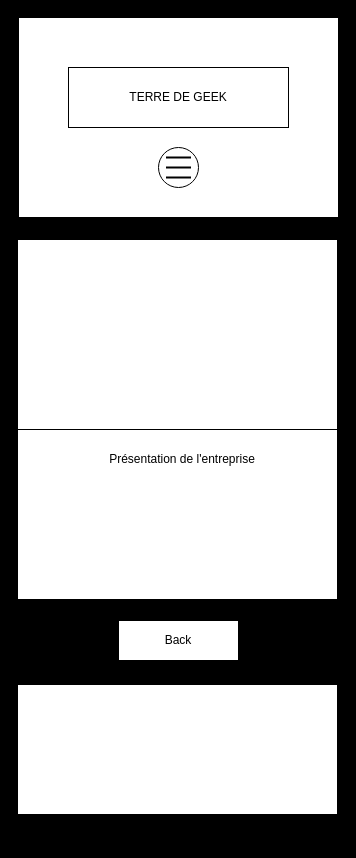
The diagram is 356 pixels wide and 858 high, and some of its shapes have lost their labels. Here are the shapes that lost their labels. From the top down, the centre of each, then its label:
At [177,334]: "Vidéo".
At [177,749]: "Footer".
